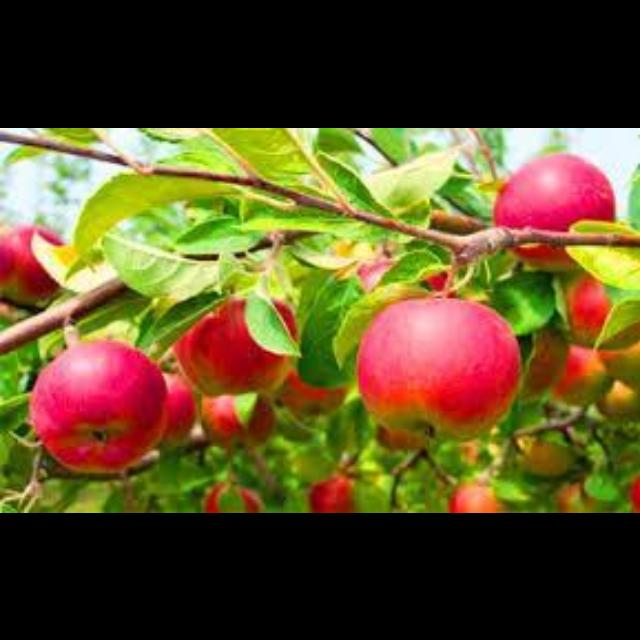apple: (359, 300, 518, 437), (29, 340, 166, 470), (173, 298, 290, 393), (494, 154, 613, 229), (0, 224, 60, 302), (516, 244, 576, 269)
